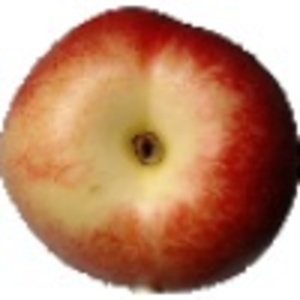nectarina: (1, 5, 300, 299)
